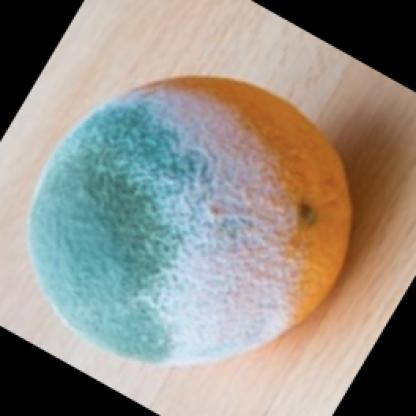rotten: (30, 77, 352, 365)
